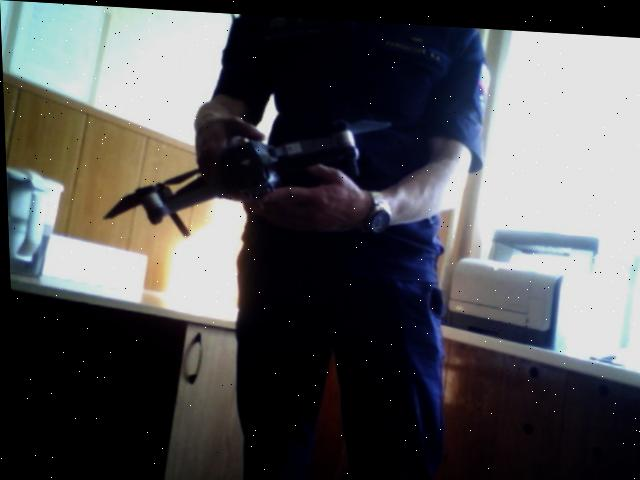drone: (98, 107, 413, 246)
